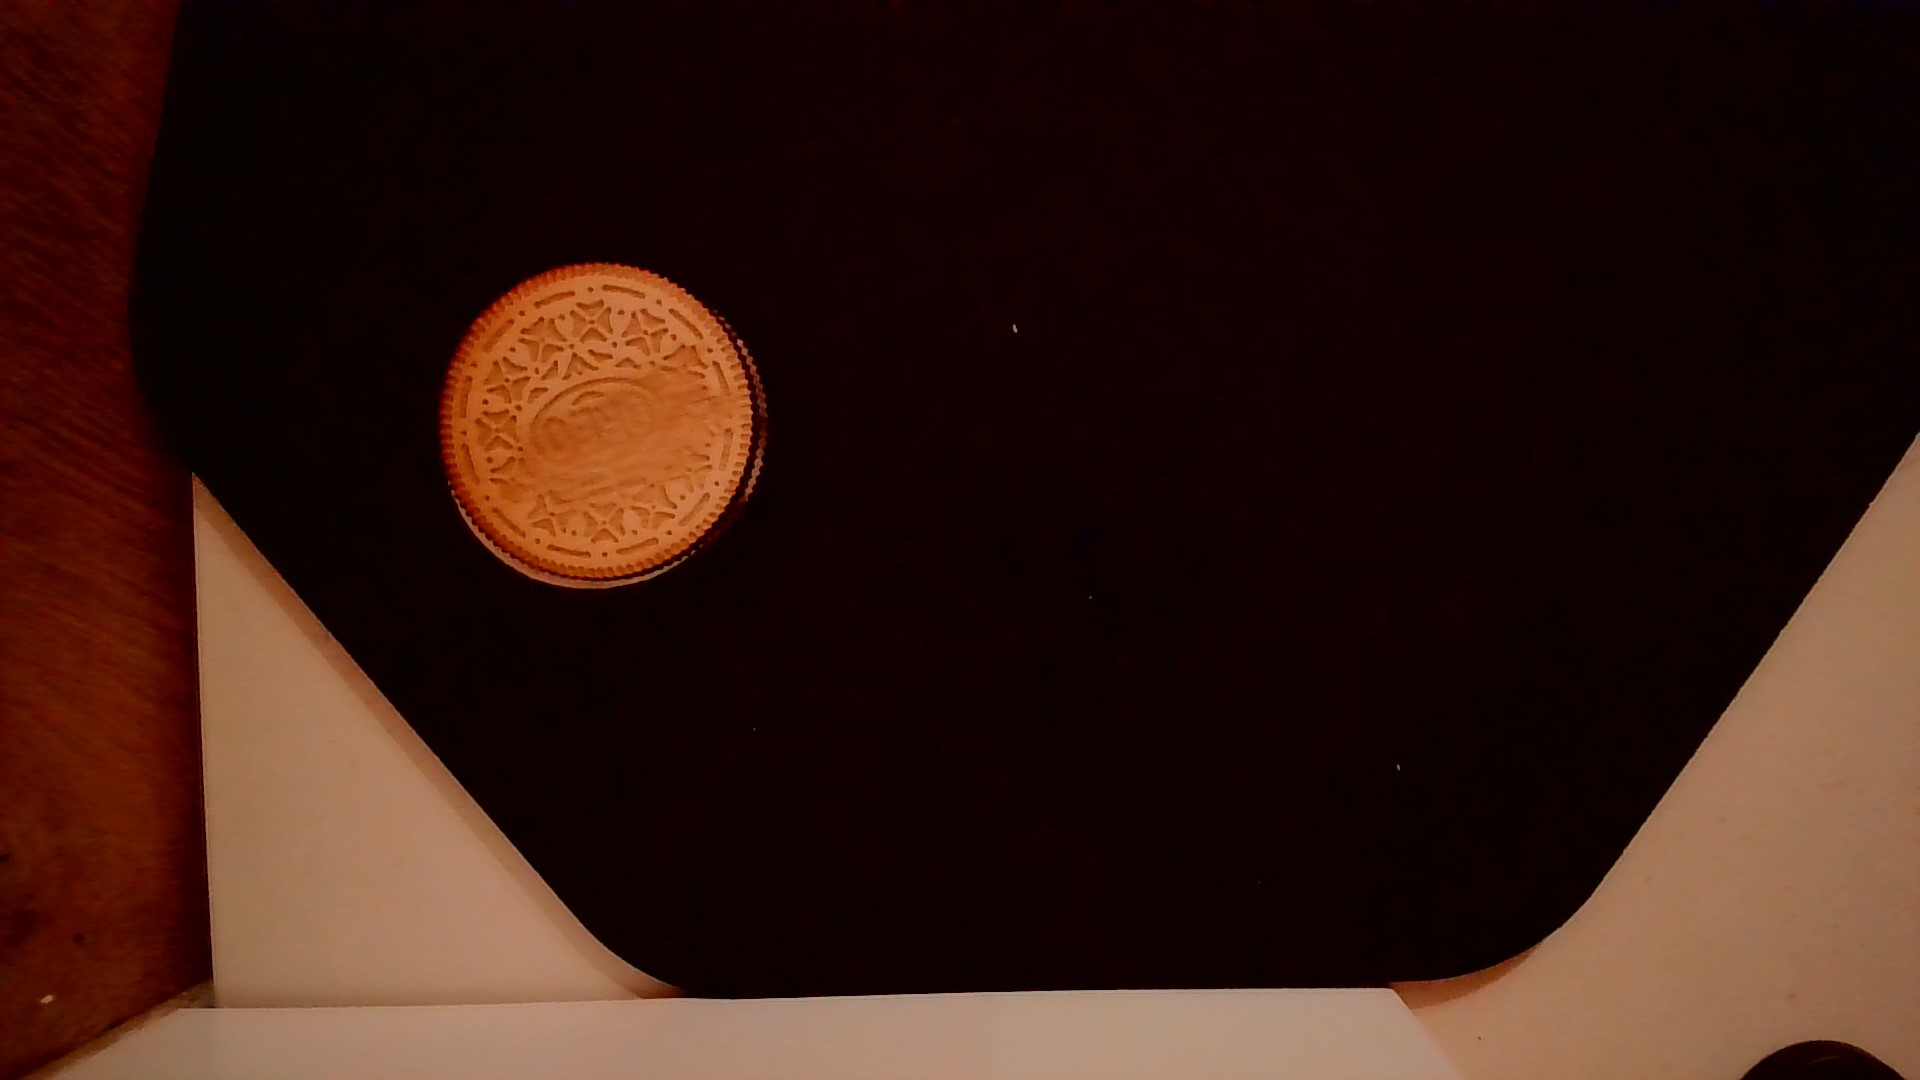Décalé: (448, 501, 709, 605)
Effacé: (512, 363, 723, 505)
Oréo: (430, 255, 774, 589)
